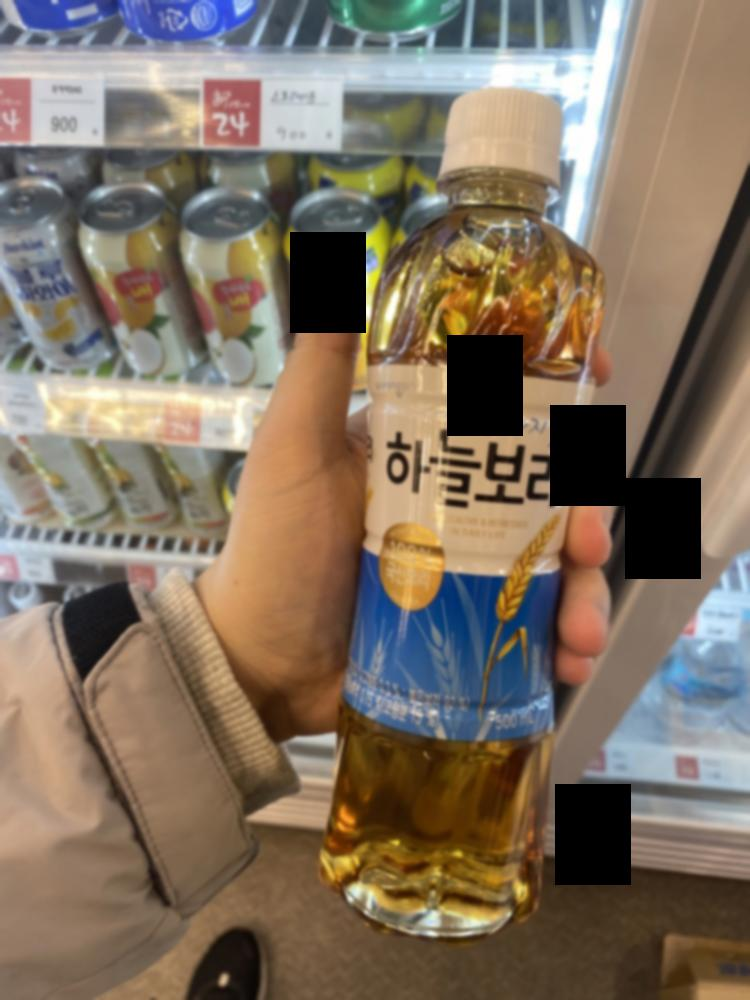haneulbori: (323, 48, 611, 907)
